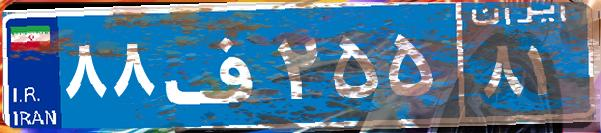1: (525, 38, 570, 115)
2: (273, 28, 330, 110)
5: (385, 28, 445, 110), (330, 28, 385, 110)
8: (57, 26, 110, 107), (475, 38, 525, 113), (110, 28, 158, 105)
ف: (158, 15, 273, 115)
